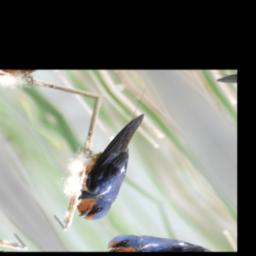Swallow: (34, 113, 194, 226)
